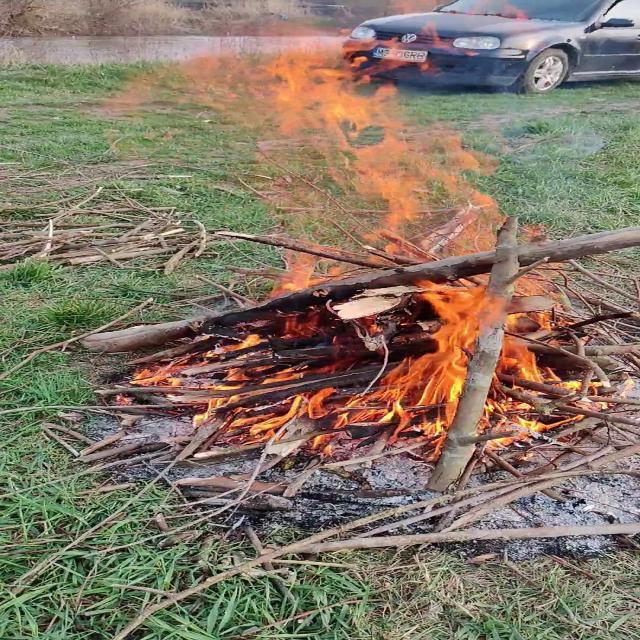Fire: (130, 33, 577, 440)
